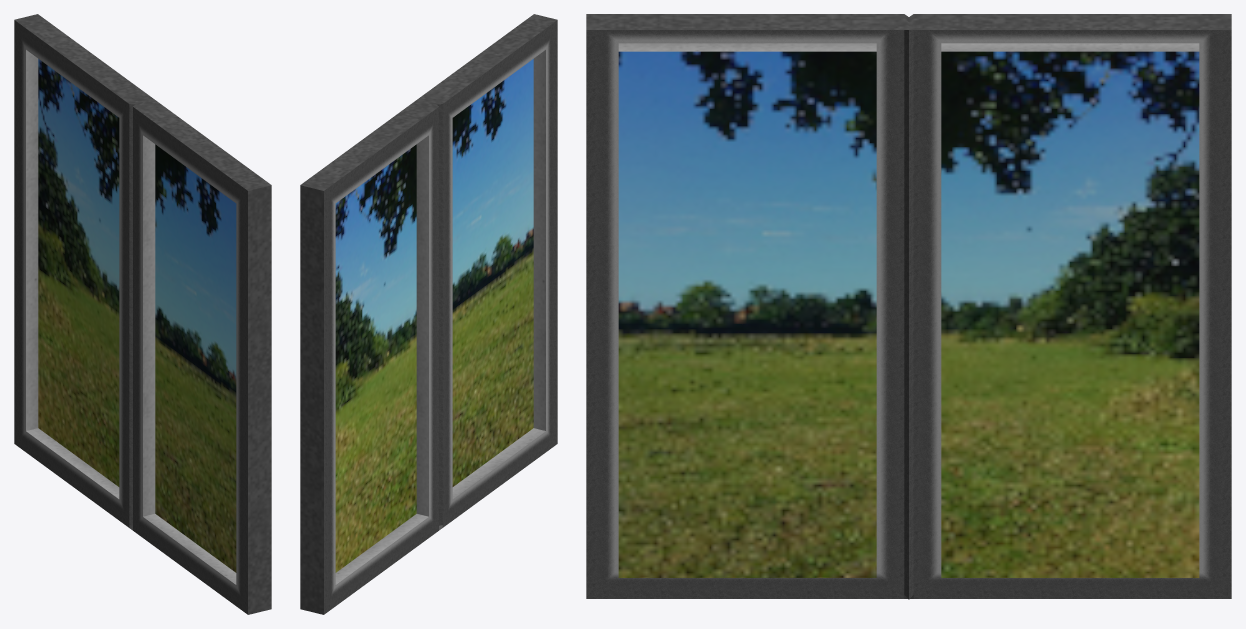
Rendered from Exit_Door.fbx.
3 renders of one model, left to right at view 1: azimuth 30°, elevation 25°; view 2: azimuth 150°, elevation 25°; view 3: azimuth 270°, elevation 25°, orthographic. The views are drawn at different scales.
Parts seen in each view (by area): view 1: Plane.001; view 2: Plane.001; view 3: Plane.001.
Part boxes in pixels (x1,y1,x2,y2): Plane.001: (14, 14, 271, 614); Plane.001: (300, 14, 557, 614); Plane.001: (586, 14, 1231, 599).
Size of the model in its own units: 11.7 by 200 by 200.
